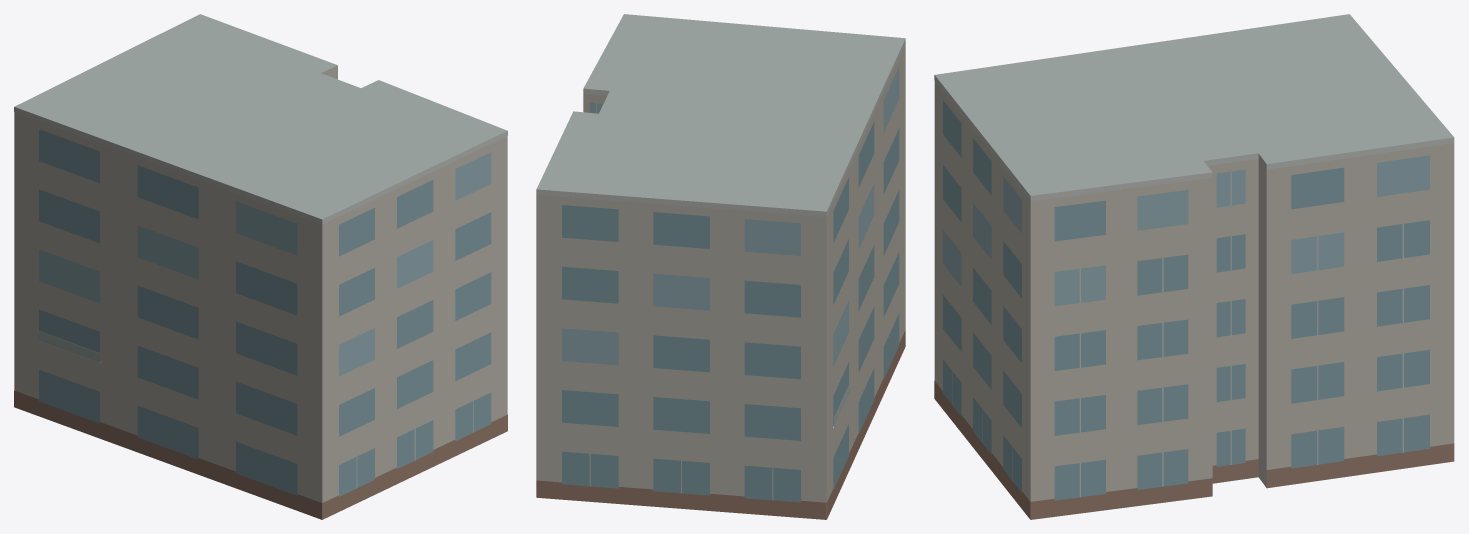
File: survey-upis-32744711.glb
3 views of the same model, side by side, from view 1: azimuth 30°, elevation 25°; view 2: azimuth 150°, elevation 25°; view 3: azimuth 270°, elevation 25° (orthographic). The views are drawn at different scales.
Visible parts, largest first — view 1: survey-upis-32744711.tmp; view 2: survey-upis-32744711.tmp; view 3: survey-upis-32744711.tmp.
Boxes of the visible parts, x1,y1,x2,y2 form: survey-upis-32744711.tmp: (14,14,507,519); survey-upis-32744711.tmp: (536,14,905,519); survey-upis-32744711.tmp: (934,14,1454,519).
Size of the model in its own units: 17.11 by 14.2 by 20.66.
